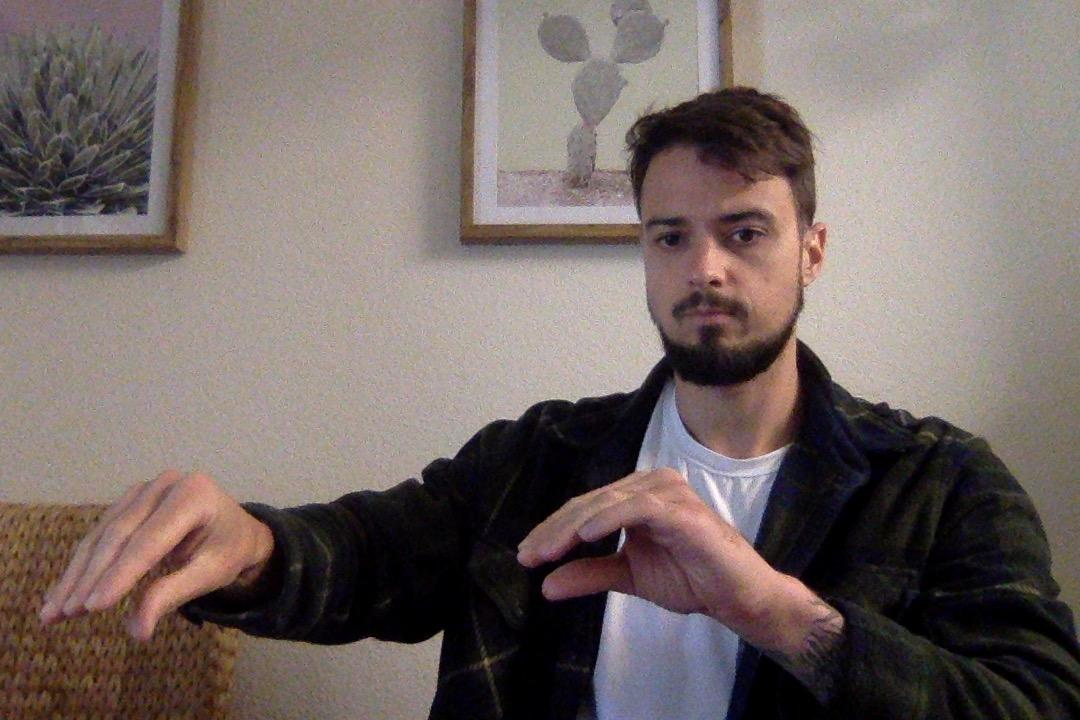Pinched-Fingers: (517, 461, 786, 650), (39, 458, 267, 639)
